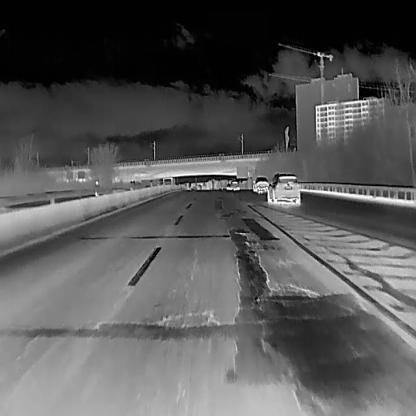car: (265, 172, 300, 204), (252, 177, 270, 193), (162, 176, 174, 188), (230, 180, 240, 190)
